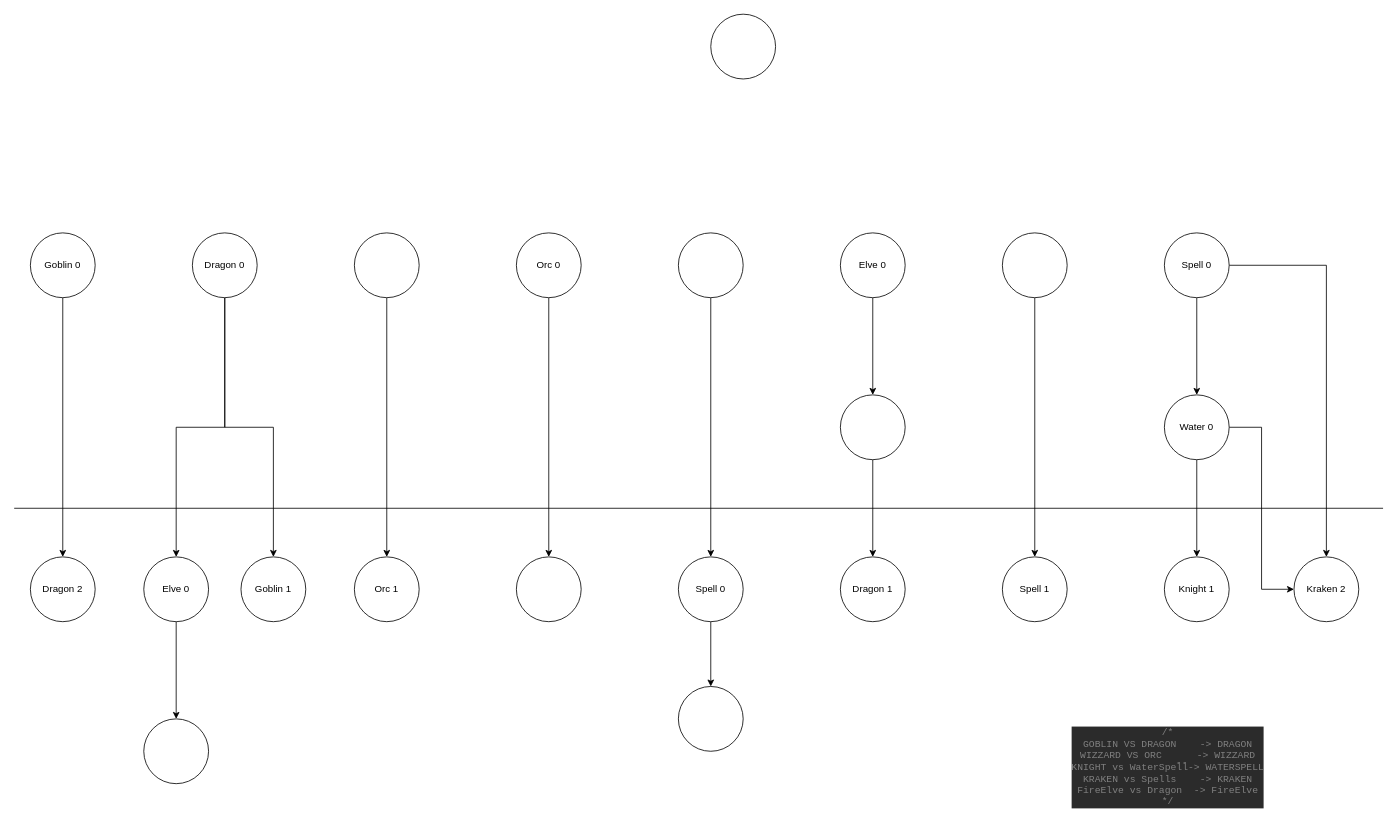
The diagram is 1398 pixels wide and 832 high, and some of its shapes have lost their labels. Each missing label, with the centre of its shape:
"Fire 0" belongs at (x=872, y=427).
"Fire 2" belongs at (x=176, y=751).
"Knight 0" belongs at (x=710, y=265).
"Kraken 0" belongs at (x=1034, y=265).
"Water 2" belongs at (x=710, y=718).
"Wizzard 0" belongs at (x=386, y=265).
"Wizzard 2" belongs at (x=548, y=589).
